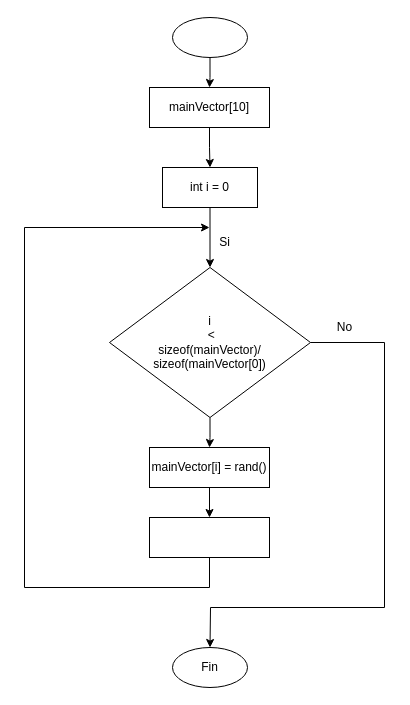
Some shapes in this 410 by 705 pixel diagram are drawn without their labels. The shapes that lost their labels are listed below. From the top down, each one's centre as x and y in pixels, then its label:
pixel 210 37: Inicio
pixel 209 537: i ++
